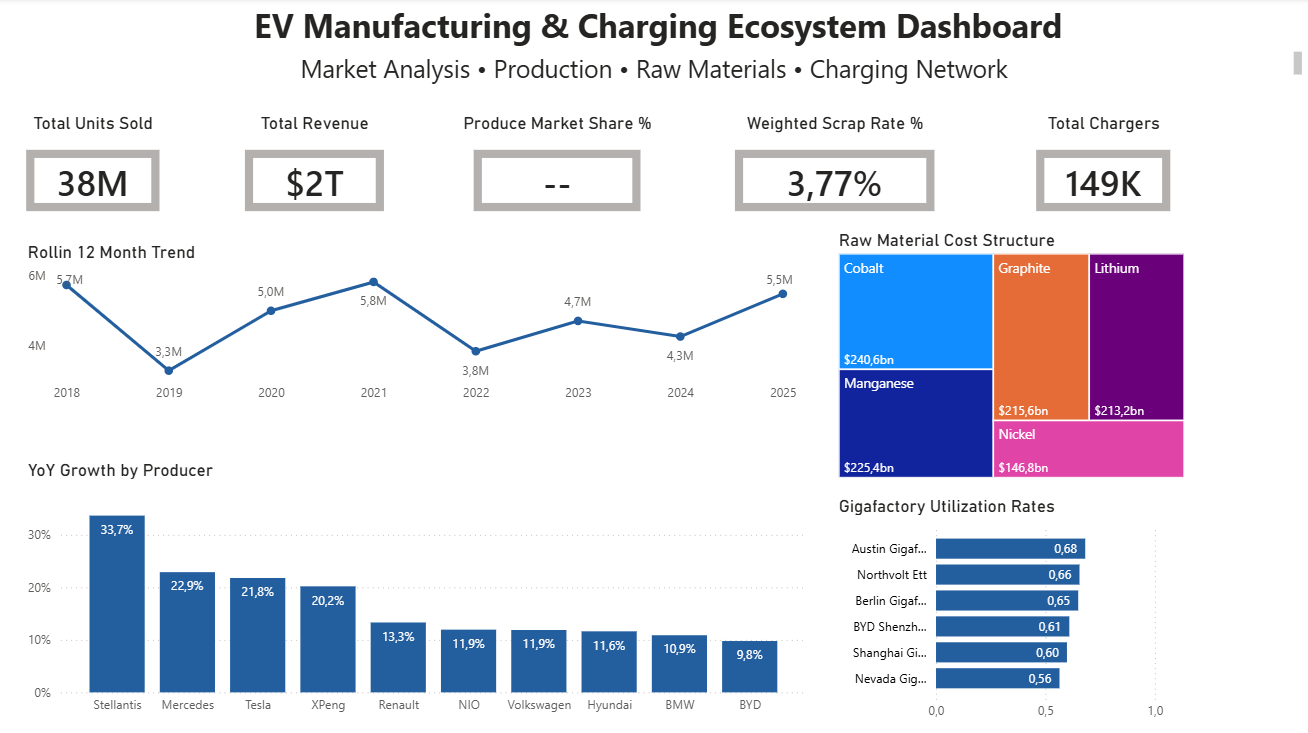

The page's visual inventory and layout, read from the dashboard file:
{"tool":"powerbi","page":{"name":"Market Analysis","canvas":[1280,720],"ordinal":0},"visuals":[{"type":"textbox","box":[10,0,1270,73.3],"z":0},{"type":"textbox","box":[10.1,47.6,1269.6,53.4],"z":1000},{"type":"cardVisual","title":"Total Units Sold","fields":{"Data":["EV_Sales.Total Units Sold"]},"box":[10.1,112.5,164.5,114],"z":2000},{"type":"cardVisual","title":"Total Revenue","fields":{"Data":["EV_Sales.Total Revenue"]},"box":[223.6,112.5,170.2,114],"z":3000},{"type":"cardVisual","title":"Produce Market Share %","fields":{"Data":["EV_Sales.Producer Market Share %"]},"box":[447.3,112.5,197.7,114],"z":4000},{"type":"cardVisual","title":"Weighted Scrap Rate %","fields":{"Data":["Gigafactory_Production.Weighted Scrap Rate %"]},"box":[702.6,112.5,229.4,114],"z":5000},{"type":"cardVisual","title":"Total Chargers","fields":{"Data":["Charging_Infrastructure.Total Chargers"]},"box":[998.4,112.5,165.9,114],"z":6000},{"type":"lineChart","title":"Rollin 12 Month Trend","fields":{"Category":["DateTable.Date.Variation.Date Hierarchy.Year","DateTable.Date.Variation.Date Hierarchy.Month"],"Y":["EV_Sales.Units R12"]},"box":[23.1,238.1,761.8,165.9],"z":7000},{"type":"columnChart","title":"YoY Growth by Producer","fields":{"Category":["DimProducer.Producer"],"Y":["EV_Sales.Units YoY %"]},"box":[23.1,451.6,771.9,258.3],"z":8000},{"type":"barChart","title":"Gigafactory Utilization Rates","fields":{"Category":["DimFactory.Factory"],"Y":["Gigafactory_Production.Weighted Utilization %"]},"box":[817.1,487.1,347.1,228.6],"z":9000},{"type":"treemap","title":"Raw Material Cost Structure","fields":{"Group":["Battery_Raw_Materials.Material"],"Values":["Battery_Raw_Materials.Total Material Spend"]},"box":[816.6,226.5,347.7,248.2],"z":10000}]}

Visuals, with their boxes in screenshot pixels (x1, y1, x2, y2), scaled from the page's 1280x720 canvas onto the 1308x733 screenshot:
textbox: detection(10, 0, 1307, 75)
textbox: detection(10, 48, 1307, 103)
"Total Units Sold" cardVisual: detection(10, 115, 178, 231)
"Total Revenue" cardVisual: detection(228, 115, 402, 231)
"Produce Market Share %" cardVisual: detection(457, 115, 659, 231)
"Weighted Scrap Rate %" cardVisual: detection(718, 115, 952, 231)
"Total Chargers" cardVisual: detection(1020, 115, 1190, 231)
"Rollin 12 Month Trend" lineChart: detection(24, 242, 802, 411)
"YoY Growth by Producer" columnChart: detection(24, 460, 812, 723)
"Gigafactory Utilization Rates" barChart: detection(835, 496, 1190, 729)
"Raw Material Cost Structure" treemap: detection(834, 231, 1190, 483)
